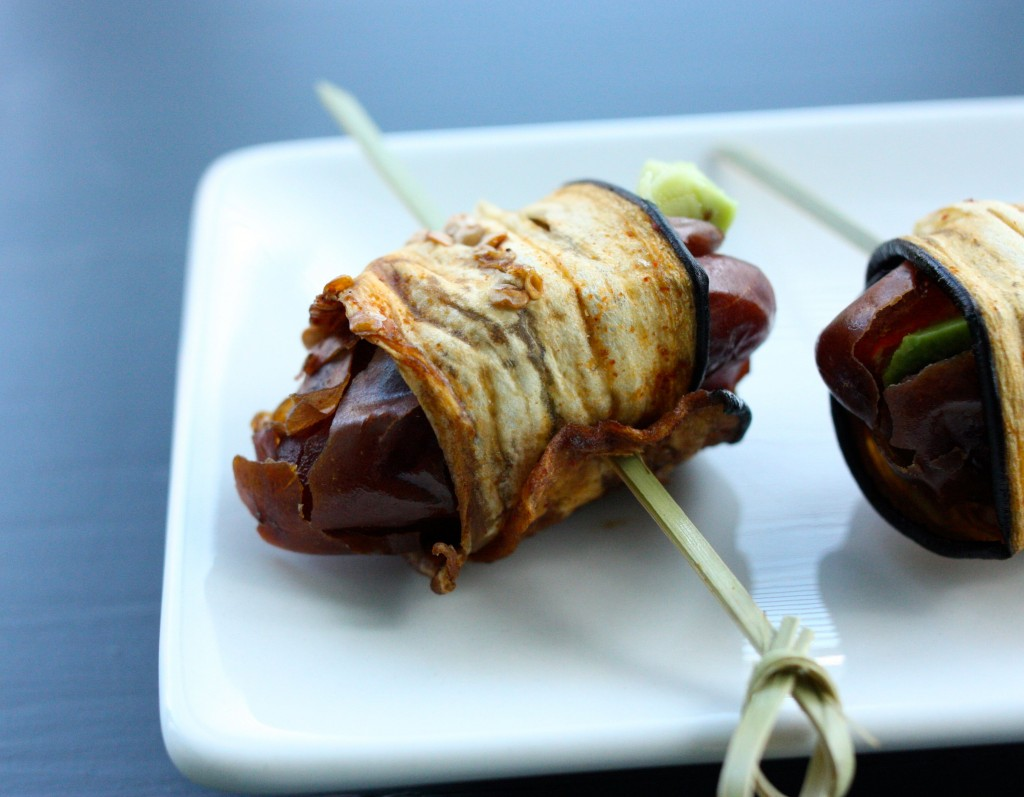bacon: (335, 157, 723, 489)
